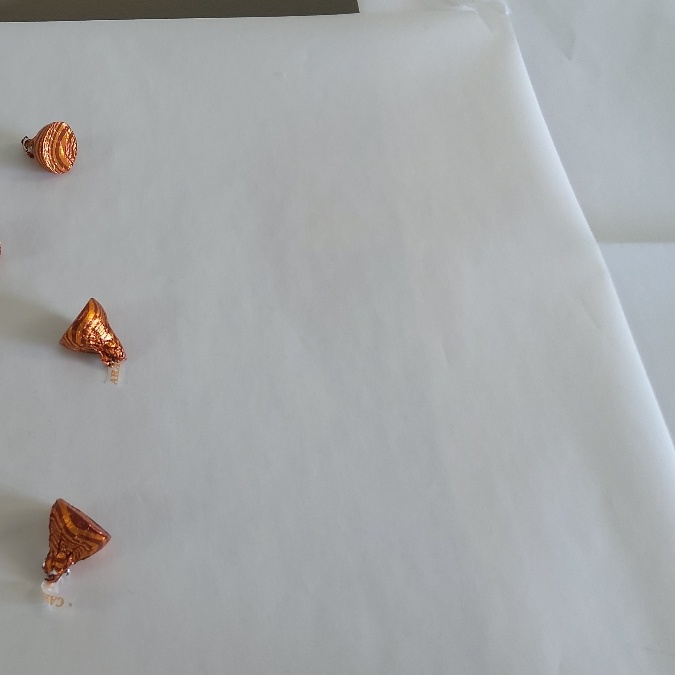chocolate_gold: (59, 297, 125, 363), (42, 507, 108, 573), (18, 117, 81, 173)
